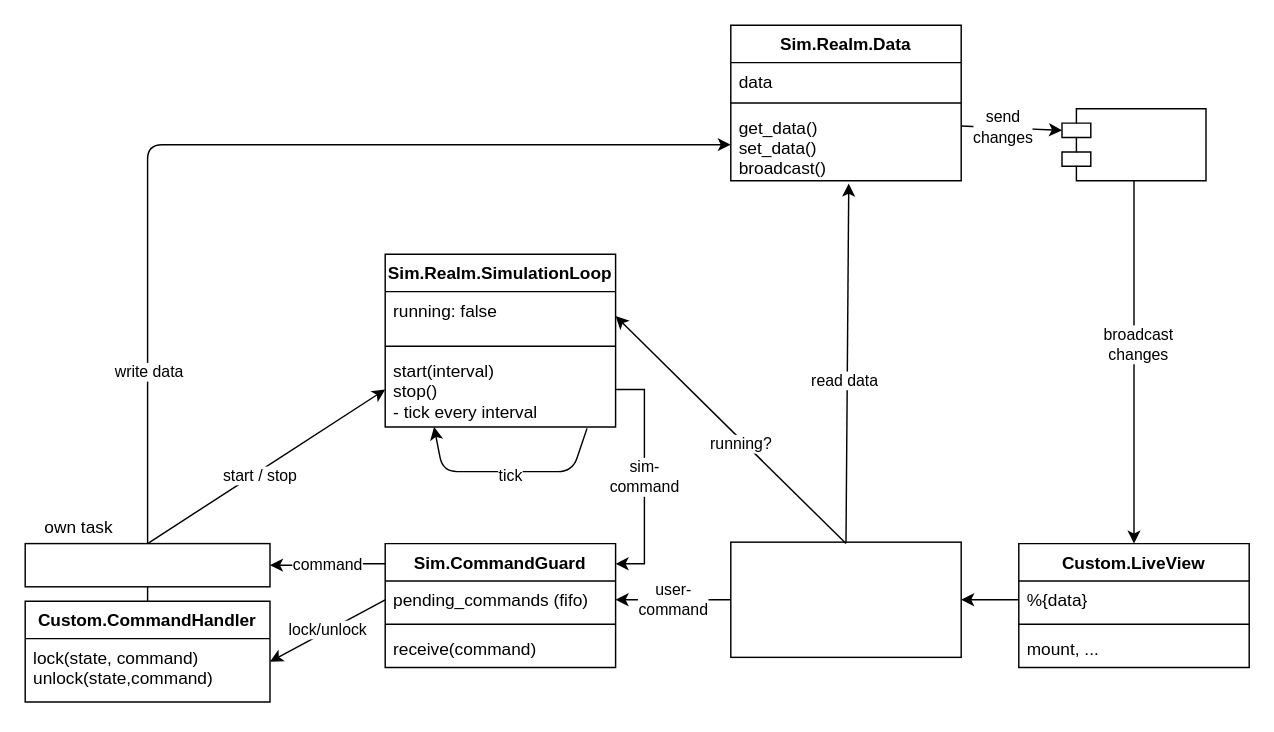
Image size: 1274x732. Some labels were removed from this diagram. Here are the shapes that lost their labels. From the top down, the centre of each, then its label:
pixel 1133 144: PubSub
pixel 147 564: handle_command(command)
pixel 845 599: Custom.Realm use Sim.Realm toggle(x, y)
